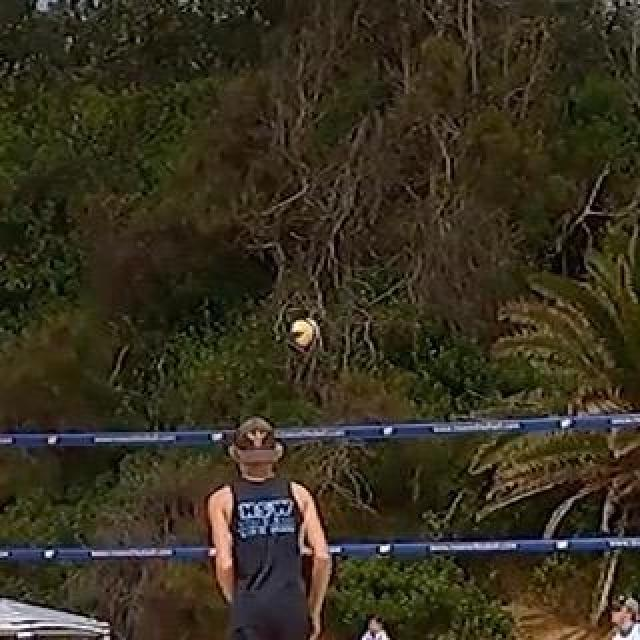volleyball: (291, 317, 319, 347)
